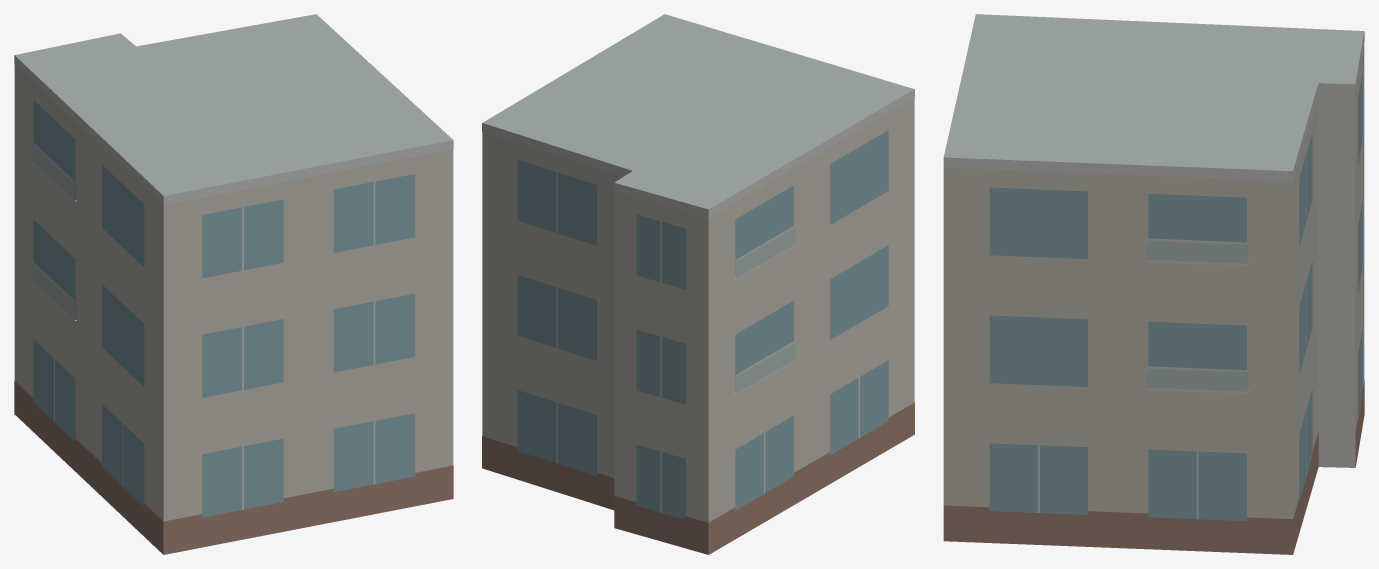
The model's file is survey-upis-32662390.glb.
3 views of the same model, side by side, from view 1: azimuth 30°, elevation 25°; view 2: azimuth 150°, elevation 25°; view 3: azimuth 270°, elevation 25° (orthographic). The views are drawn at different scales.
Visible parts, largest first — view 1: survey-upis-32662390.tmp; view 2: survey-upis-32662390.tmp; view 3: survey-upis-32662390.tmp.
Part boxes in pixels (box(x1,y1,x2,y2)): survey-upis-32662390.tmp: box(14, 14, 453, 554); survey-upis-32662390.tmp: box(482, 14, 914, 554); survey-upis-32662390.tmp: box(943, 14, 1364, 554).
Bounding box in the file's own units: 8.26 × 9.4 × 9.35.
